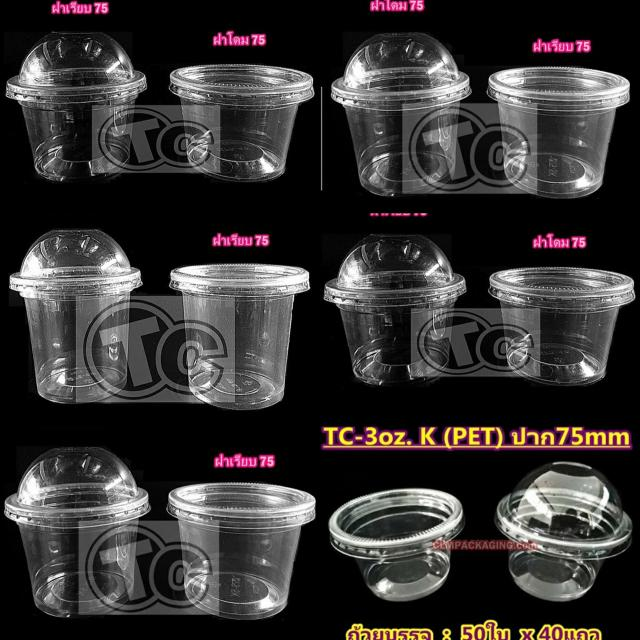Single-Use-Plastic: (5, 448, 150, 617), (332, 32, 472, 196), (10, 230, 141, 402), (324, 235, 467, 384), (6, 32, 146, 181), (170, 264, 309, 410), (168, 482, 315, 618), (495, 462, 632, 601), (487, 66, 629, 199), (169, 64, 314, 181), (489, 268, 634, 384), (329, 489, 464, 601)
